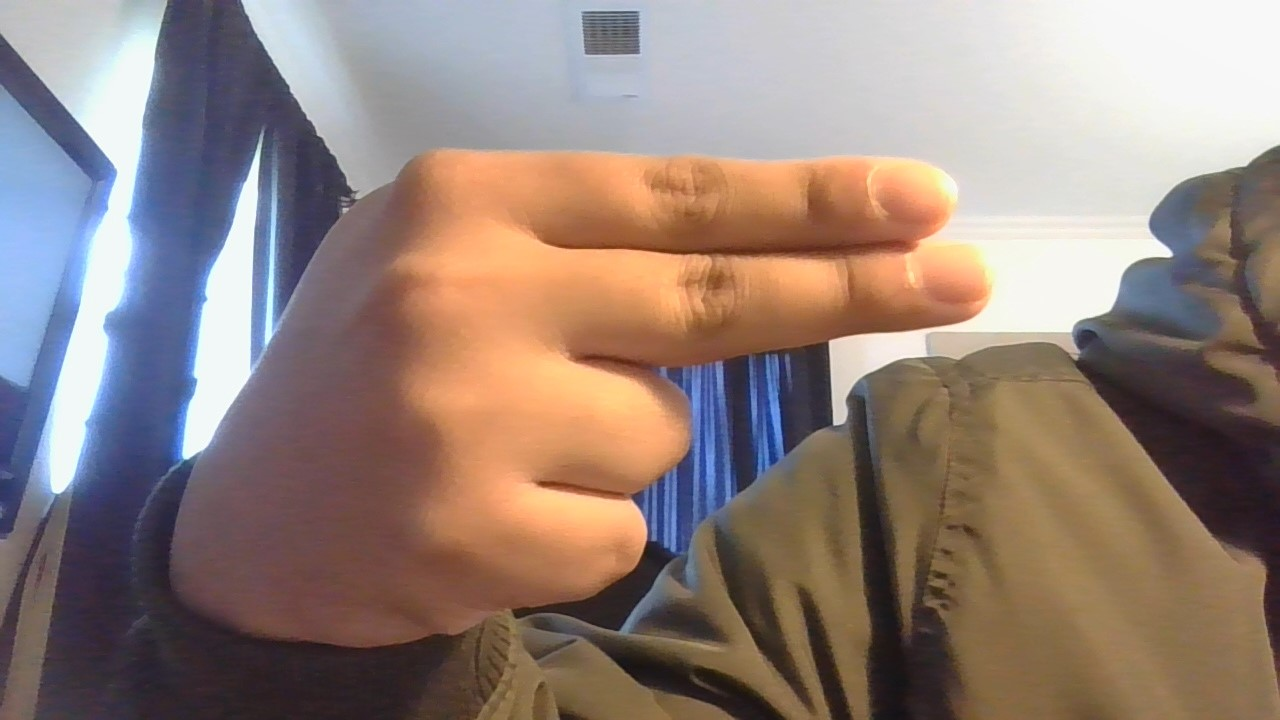h: (149, 125, 1004, 639)
